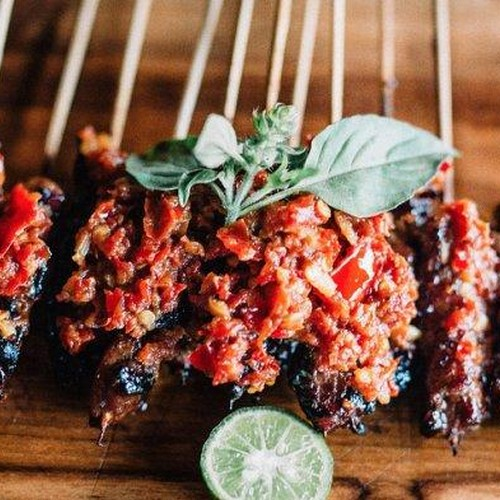sate plecing: (19, 176, 489, 428)
